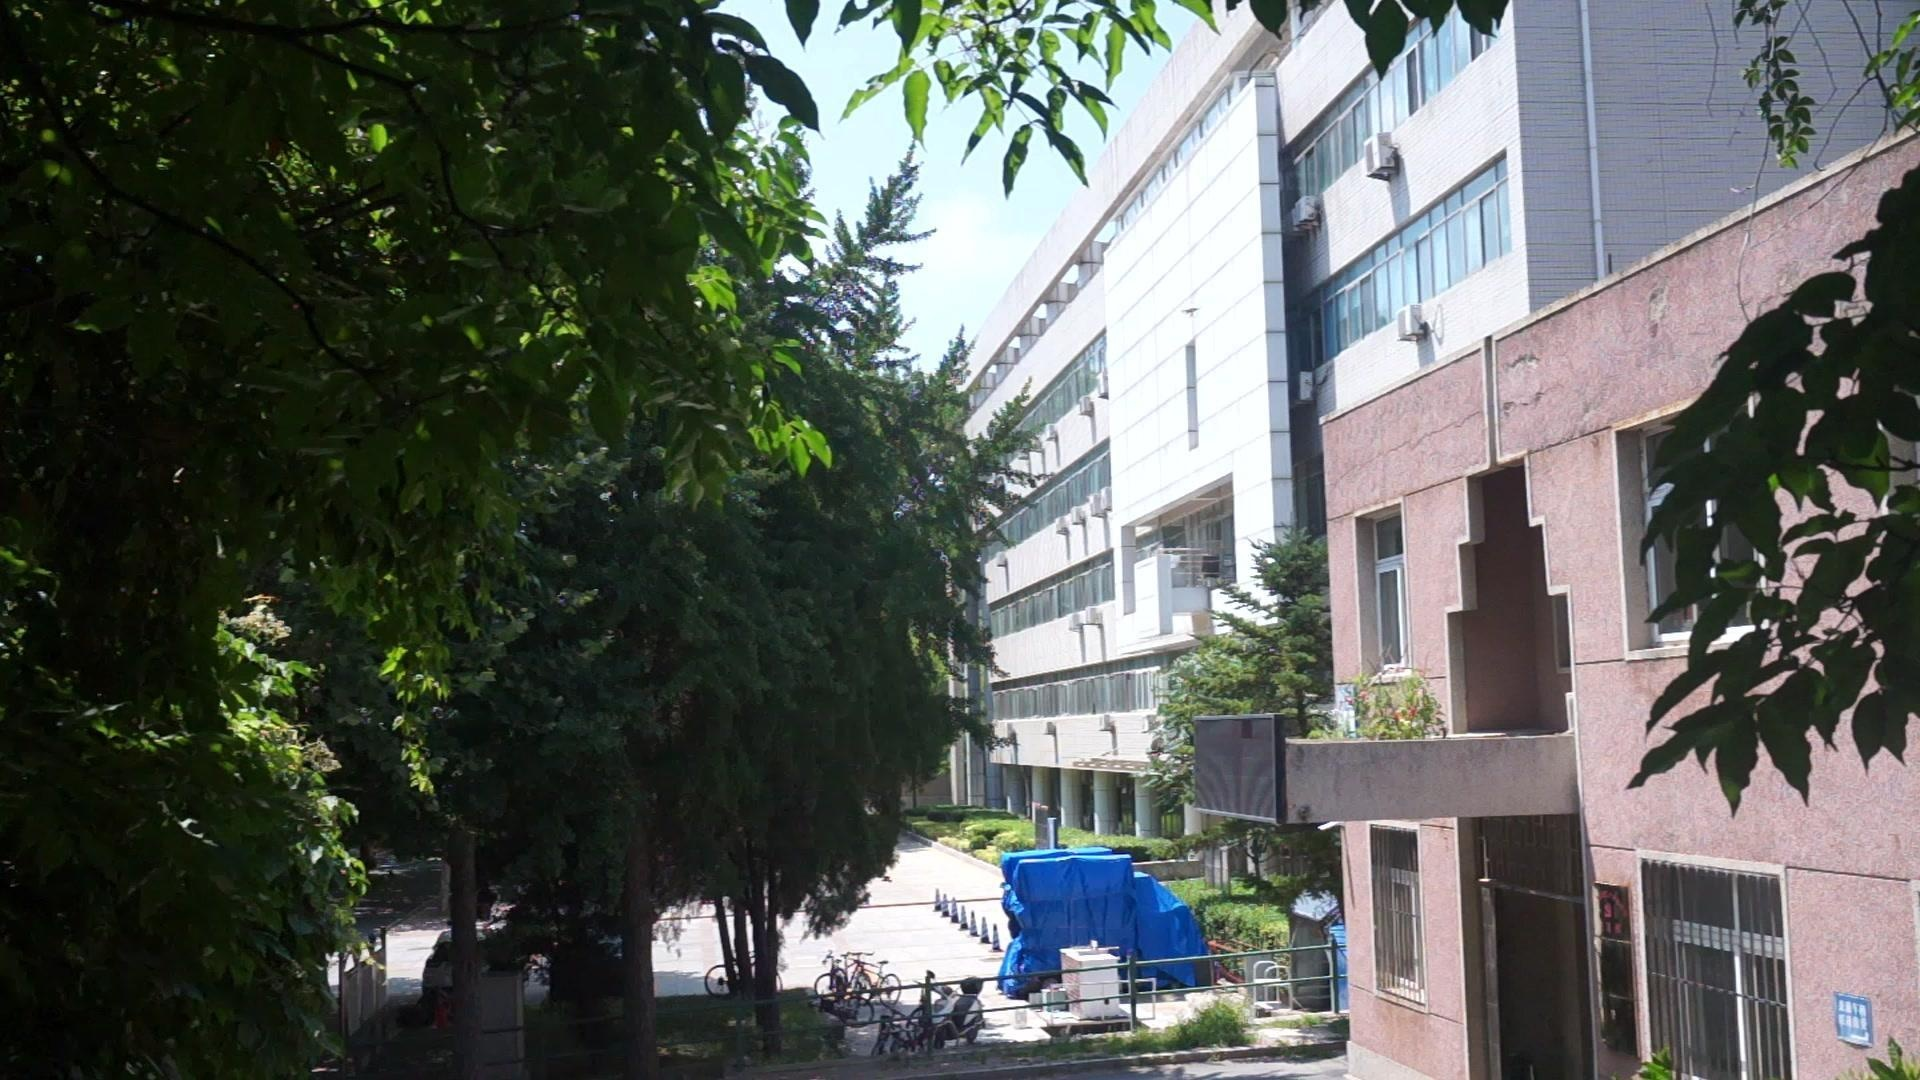UAV: (1182, 309, 1201, 318)
